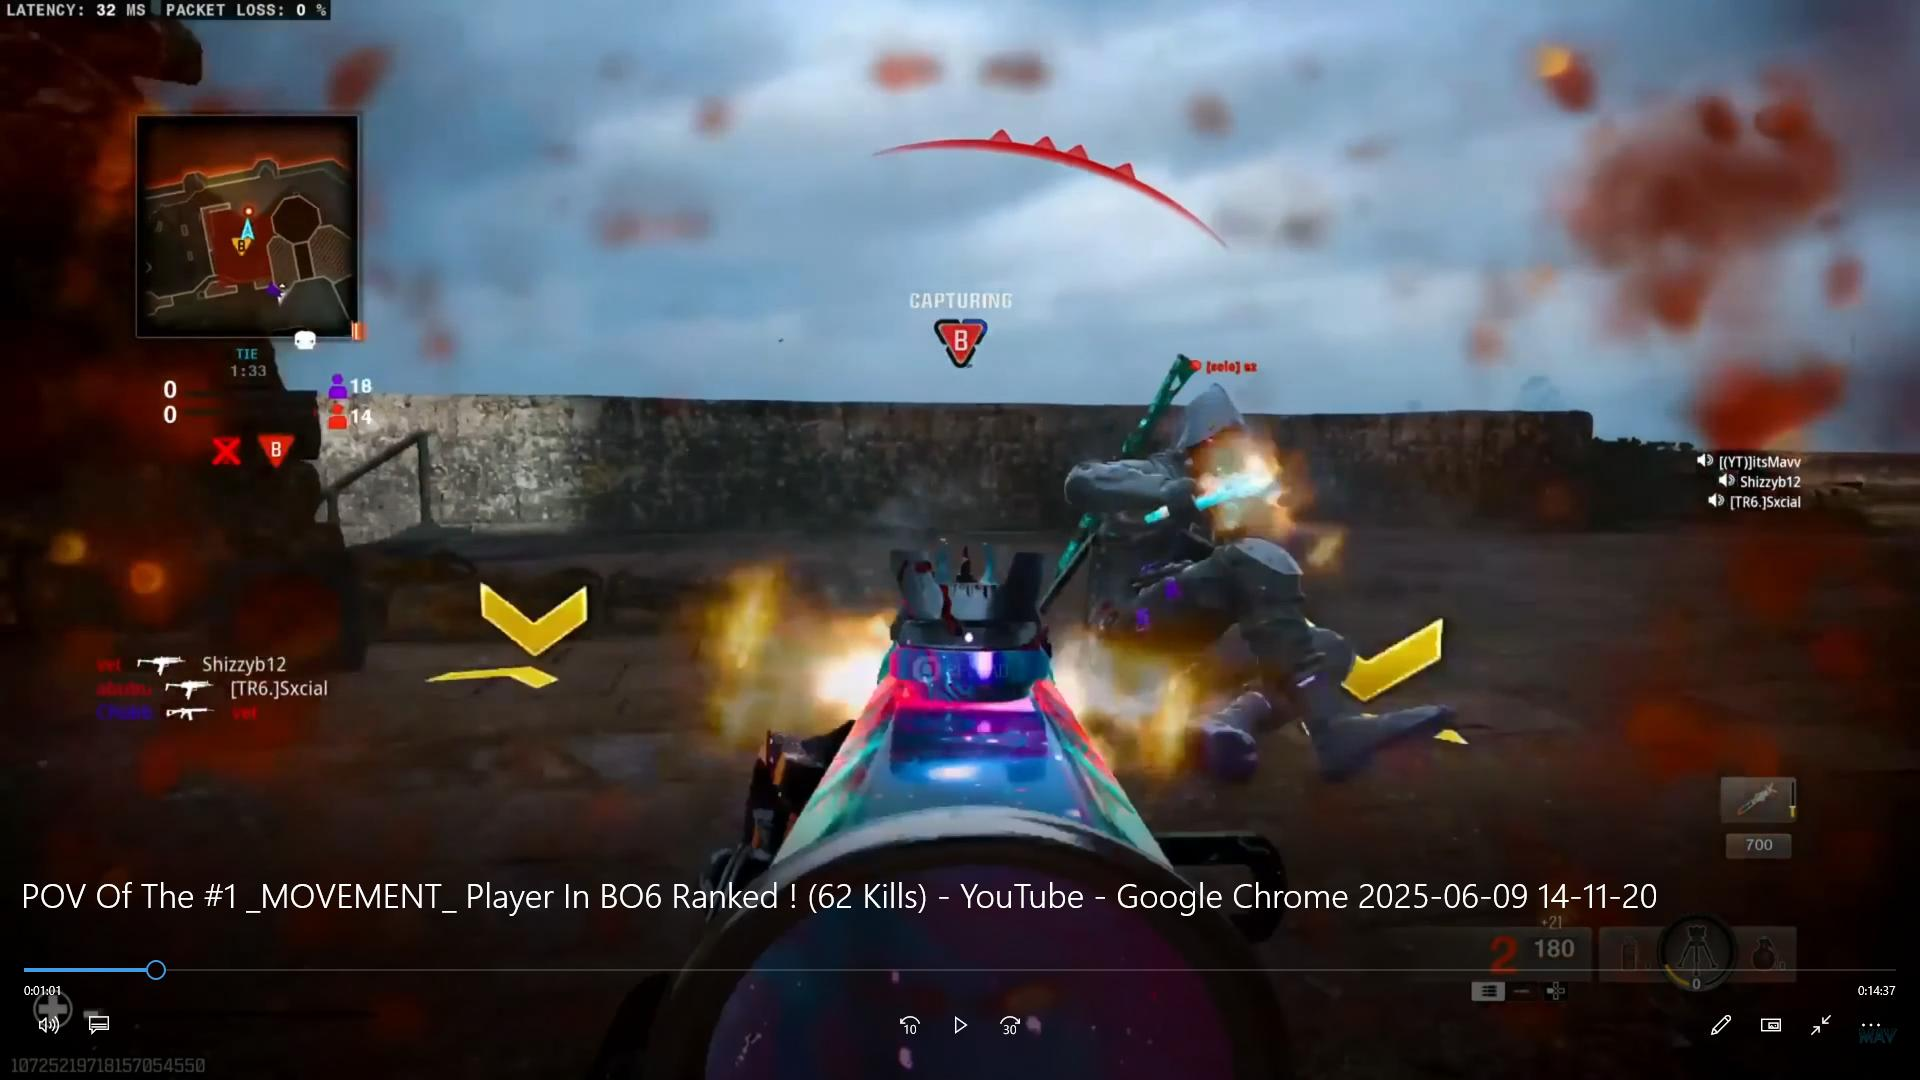Enemy: (1083, 388, 1394, 806)
